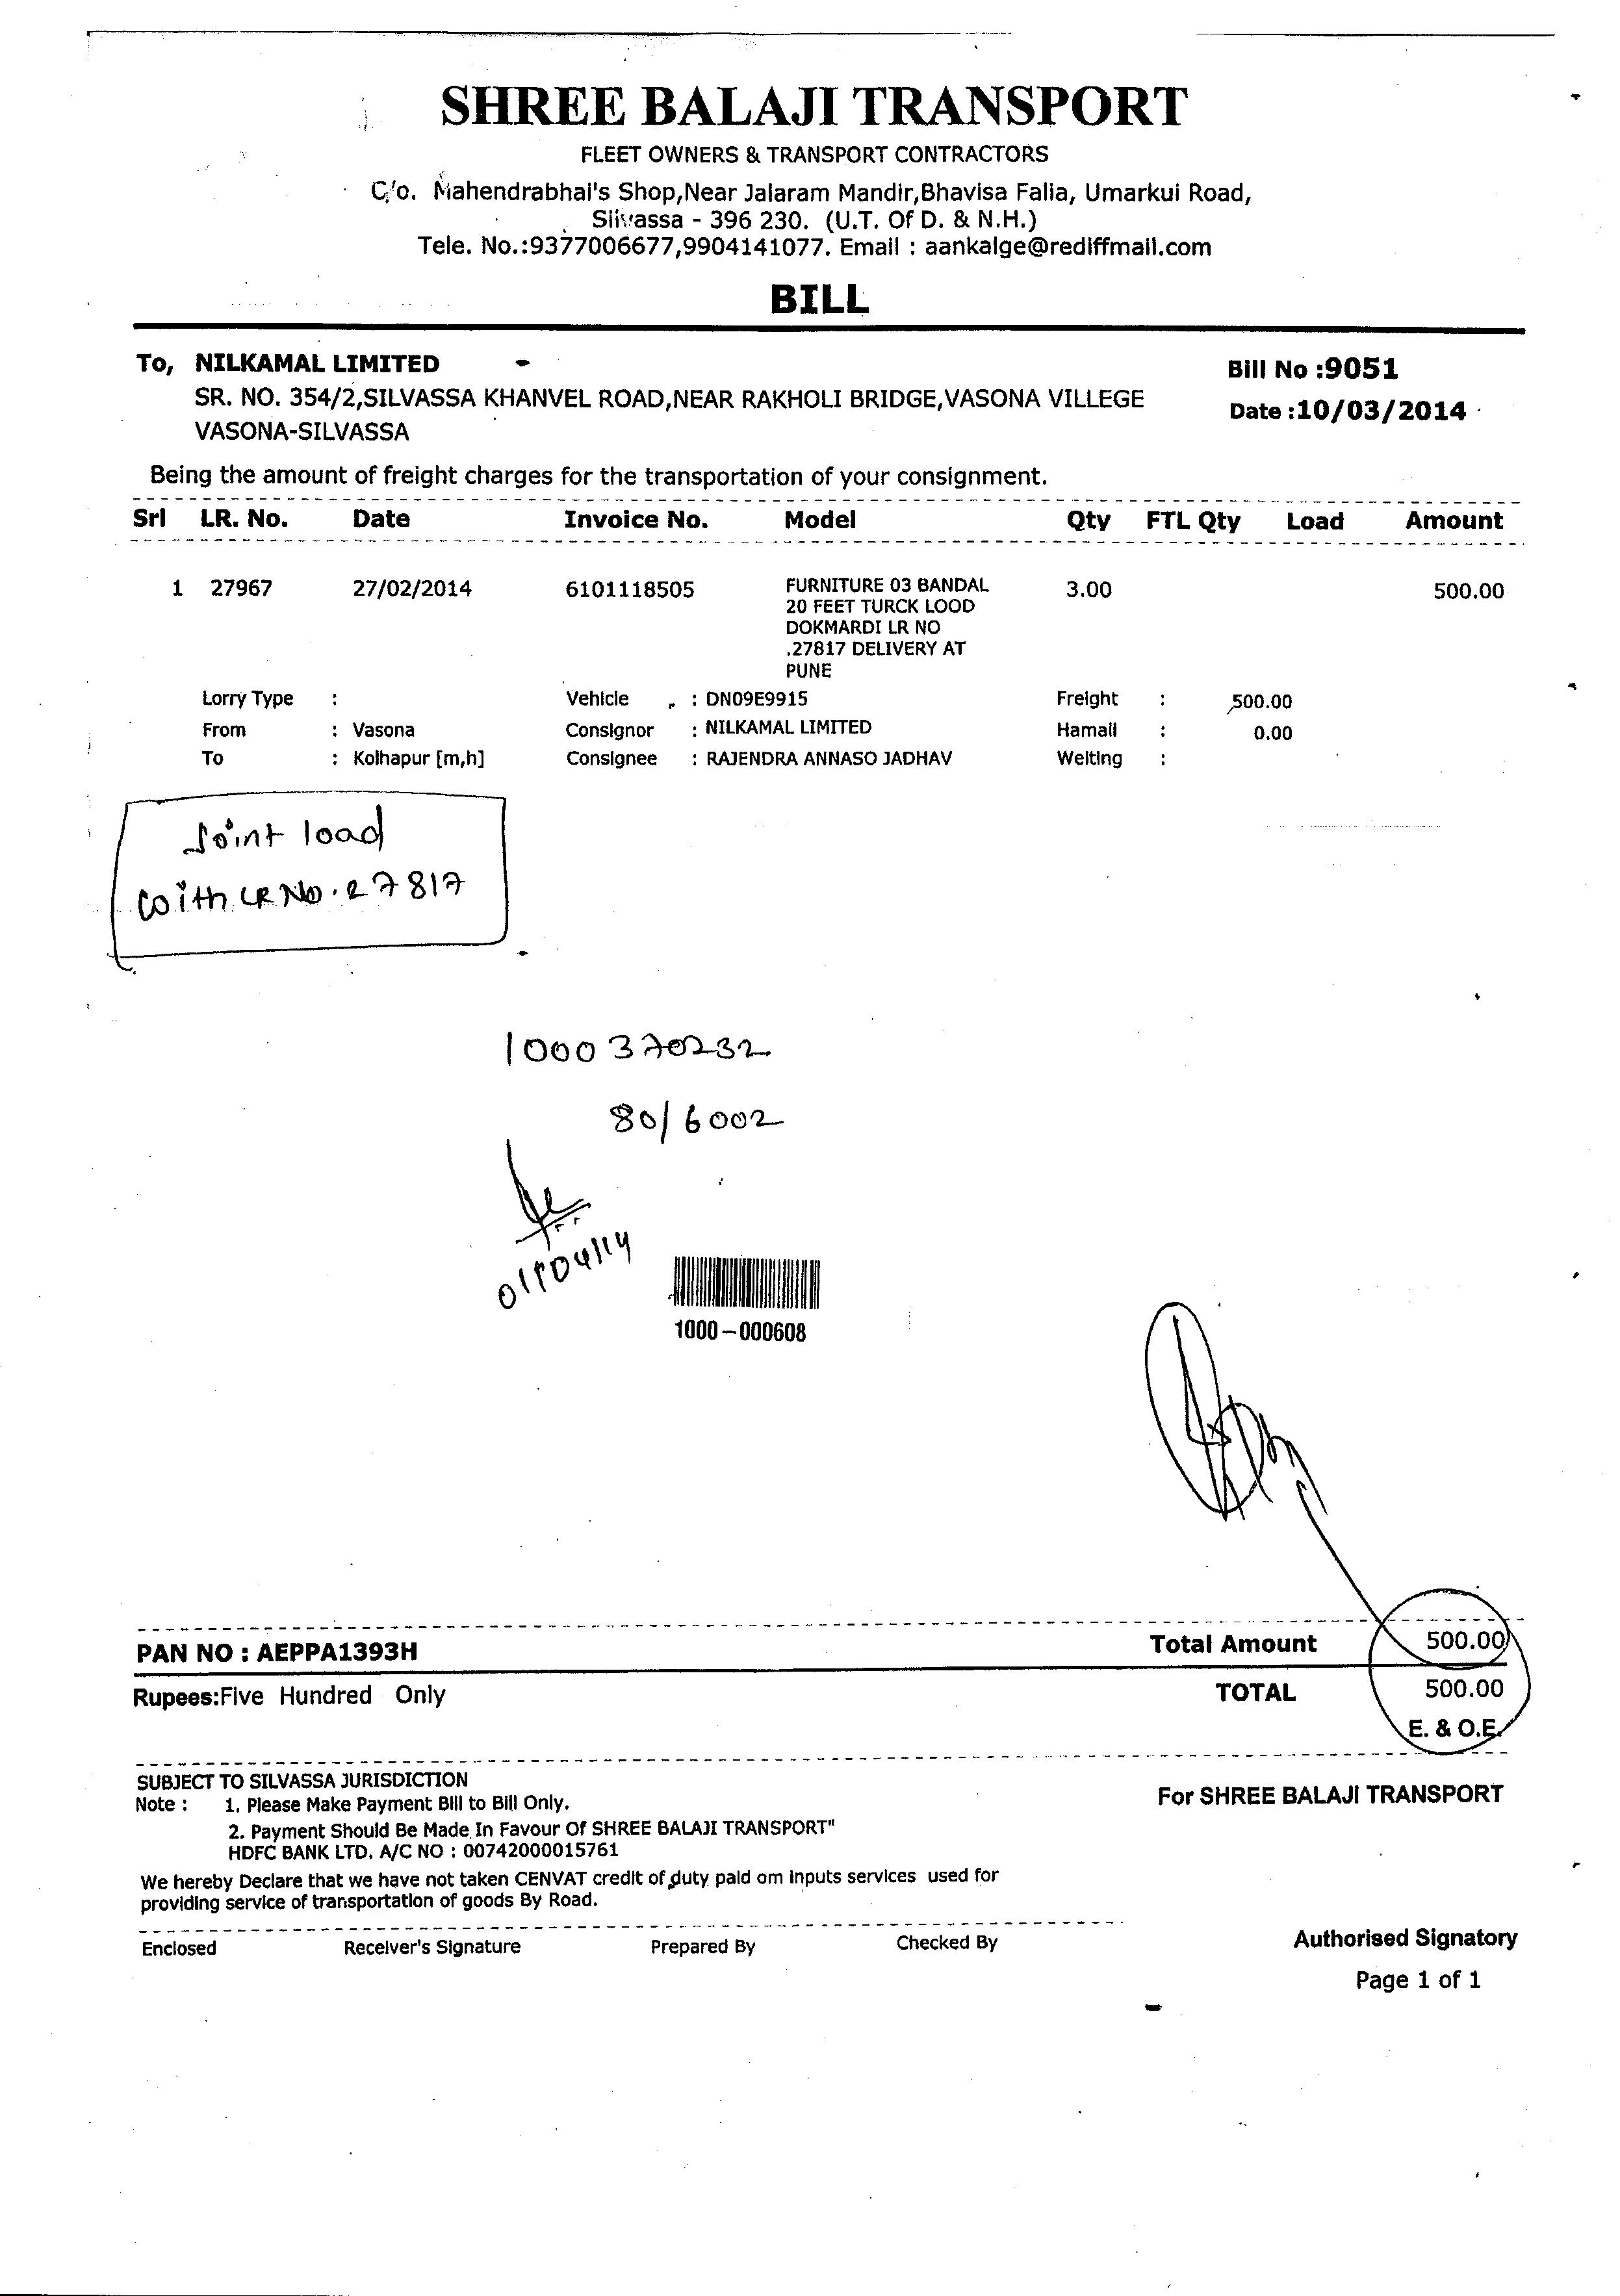B_Paragraph: (130, 1772, 1003, 1910), (140, 342, 1154, 445), (363, 170, 1257, 266), (124, 799, 491, 938), (491, 1015, 842, 1146), (566, 689, 963, 782), (135, 1930, 1005, 1970), (140, 459, 1054, 491), (196, 684, 493, 776), (1048, 680, 1301, 773), (1210, 1669, 1503, 1747), (1222, 349, 1476, 429), (493, 1220, 636, 1323), (1162, 1781, 1503, 1823), (1145, 1628, 1508, 1663), (133, 1632, 428, 1667), (130, 1686, 447, 1716), (1278, 1921, 1517, 1959), (670, 1309, 815, 1351), (1343, 1970, 1490, 2000)
B_SubTitle: (577, 137, 1059, 167)
B_Table: (133, 500, 1520, 680)
B_Title: (437, 67, 1206, 137), (761, 275, 880, 319)
